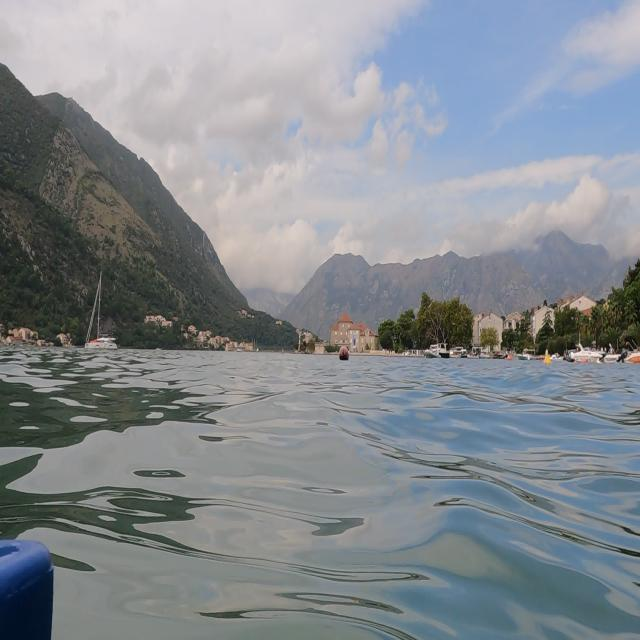boat: (78, 255, 126, 368)
buoy: (338, 342, 353, 367)
